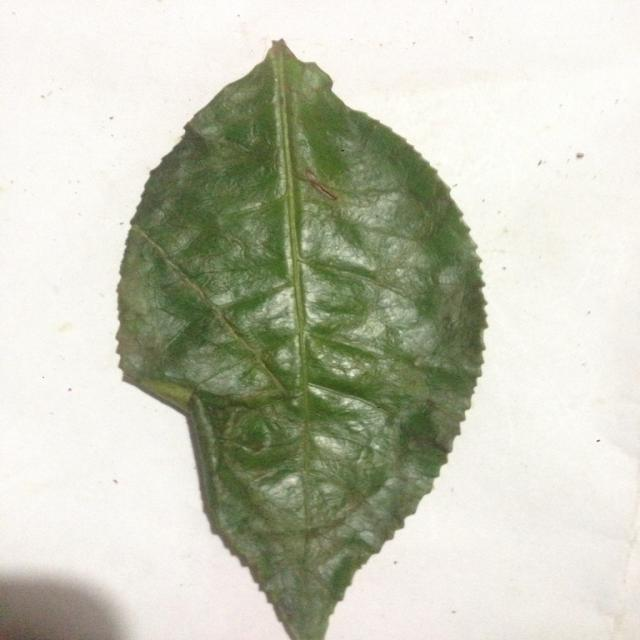Red Leaf Spot: (112, 15, 500, 640)
